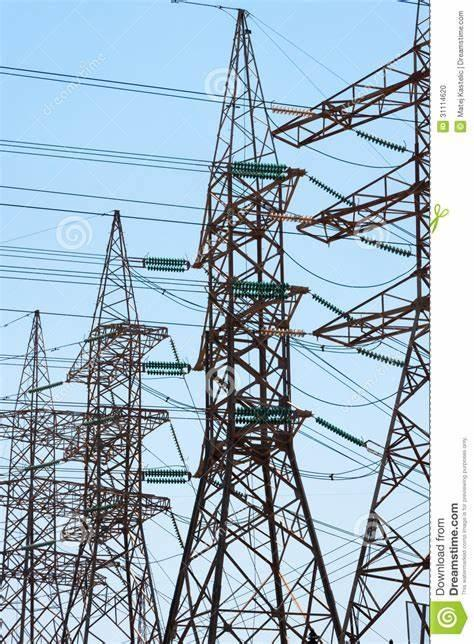power_tower: (175, 8, 345, 644), (64, 209, 175, 644), (0, 305, 75, 643)
